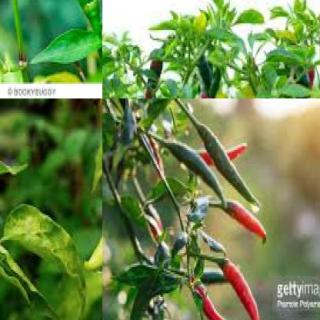green_chilli: (192, 120, 262, 204), (165, 136, 229, 211), (82, 144, 101, 275), (290, 72, 315, 98), (208, 68, 227, 98), (194, 60, 210, 94)
